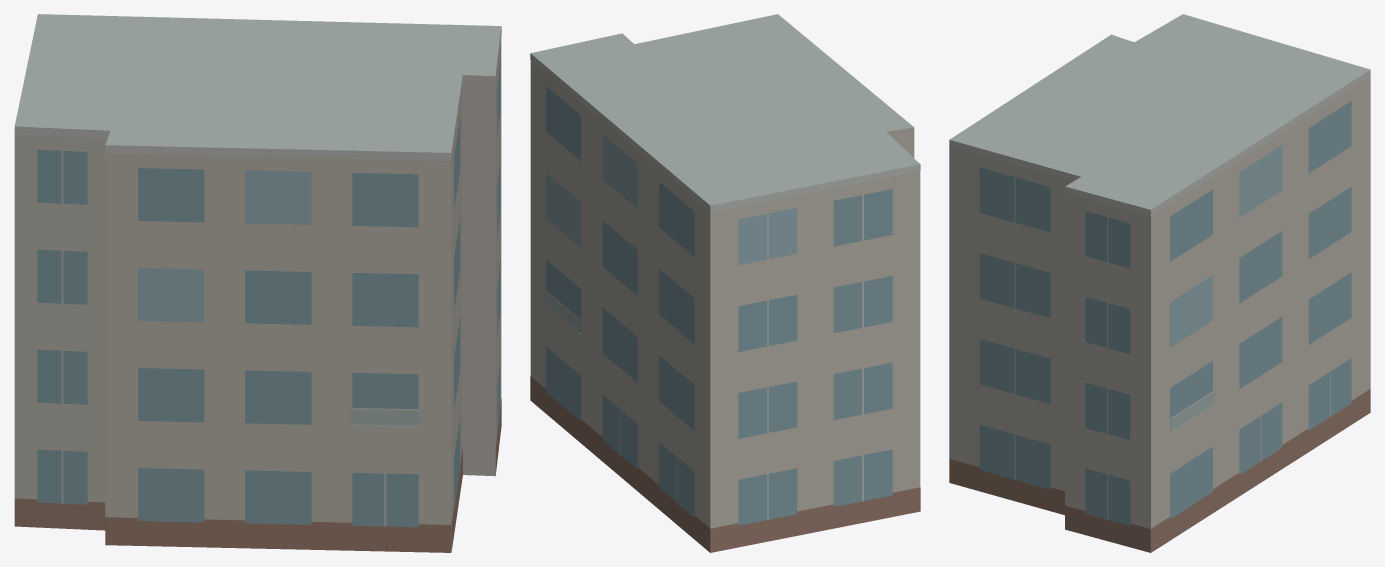
File: survey-upis-32779139.glb
The picture shows the model from 3 angles, left to right: view 1: azimuth 30°, elevation 25°; view 2: azimuth 150°, elevation 25°; view 3: azimuth 270°, elevation 25°; orthographic projection. The views are drawn at different scales.
Parts seen in each view (by area): view 1: survey-upis-32779139.tmp; view 2: survey-upis-32779139.tmp; view 3: survey-upis-32779139.tmp.
Boxes of the visible parts, bbox=[...] form: survey-upis-32779139.tmp: bbox=[14, 14, 501, 552]; survey-upis-32779139.tmp: bbox=[530, 14, 920, 552]; survey-upis-32779139.tmp: bbox=[949, 14, 1370, 552].
Size of the model in its own units: 15.25 by 12.45 by 13.87.
